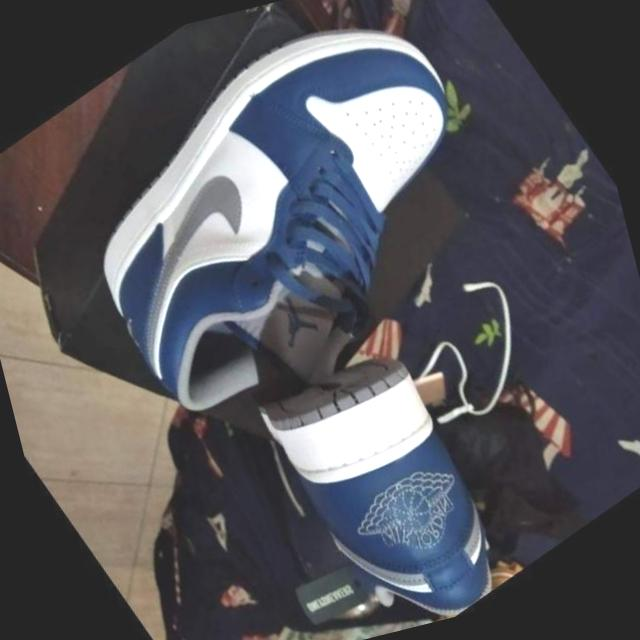nike_original_jordan: (0, 0, 579, 479), (236, 307, 549, 640)
